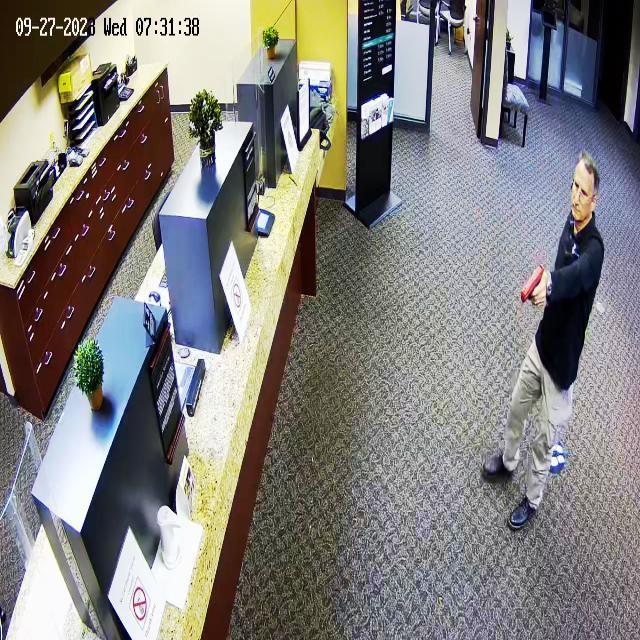Gun: (509, 254, 561, 312)
